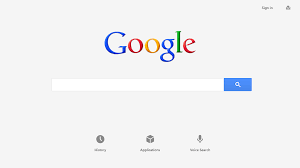searchIcon: (233, 80, 243, 89)
